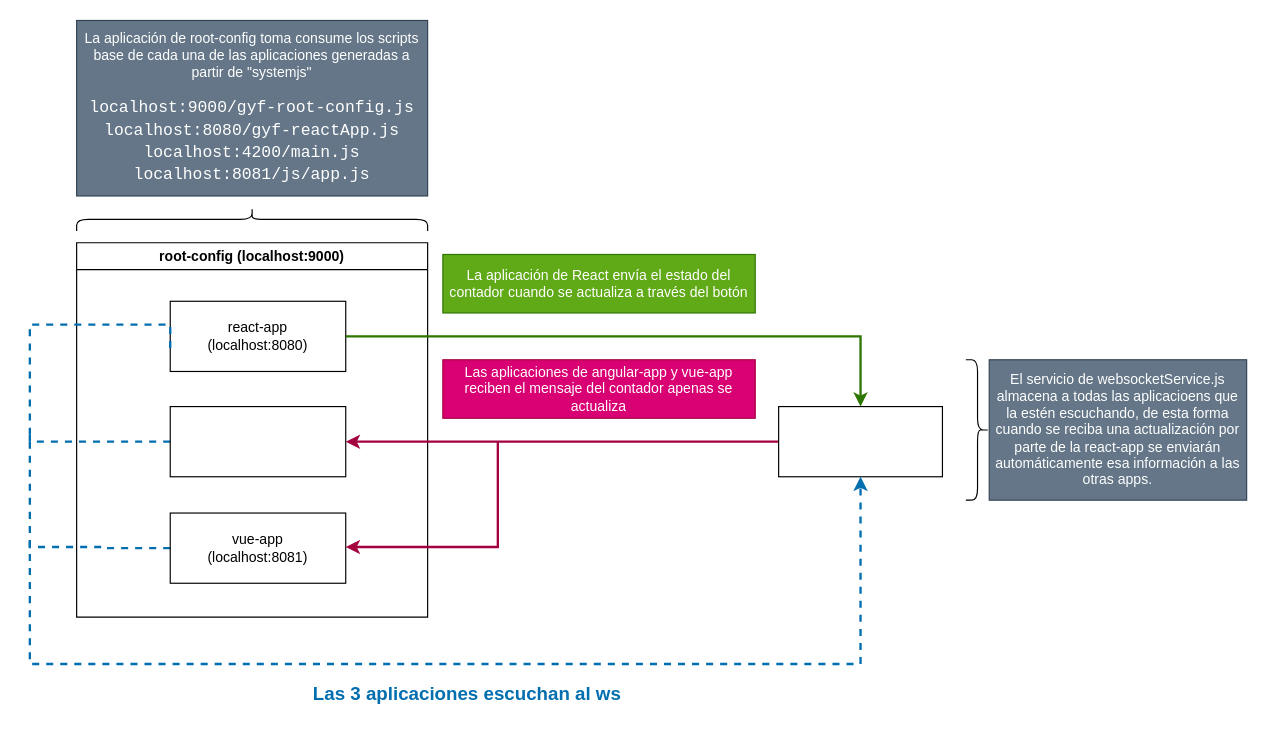
Image size: 1267x731. Some labels were removed from this diagram. Here are the shapes that lost their labels. From the top down, the centre of each, then its label:
pixel 257 441: angular-app (localhost:4200)
pixel 859 441: websocketService.js
